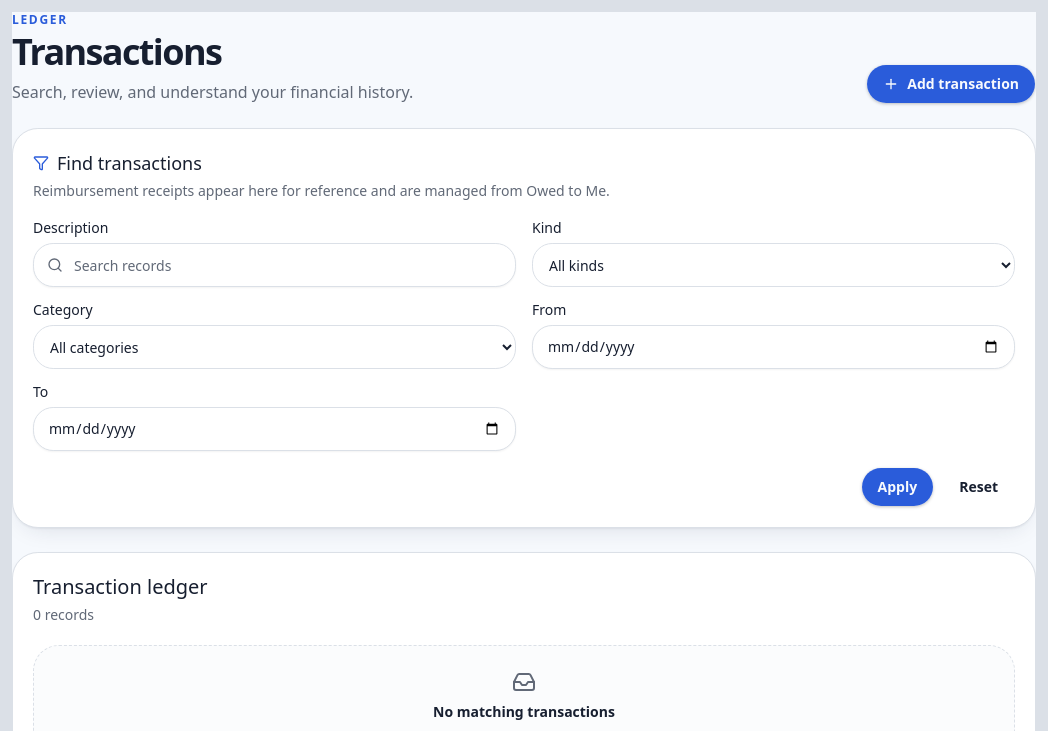
Test: TransactionsPage category catalog integration › creates with the production shape and invalidates transaction and dashboard queries
Click the button "Add transaction": click(951, 84) [866,64,1036,104]
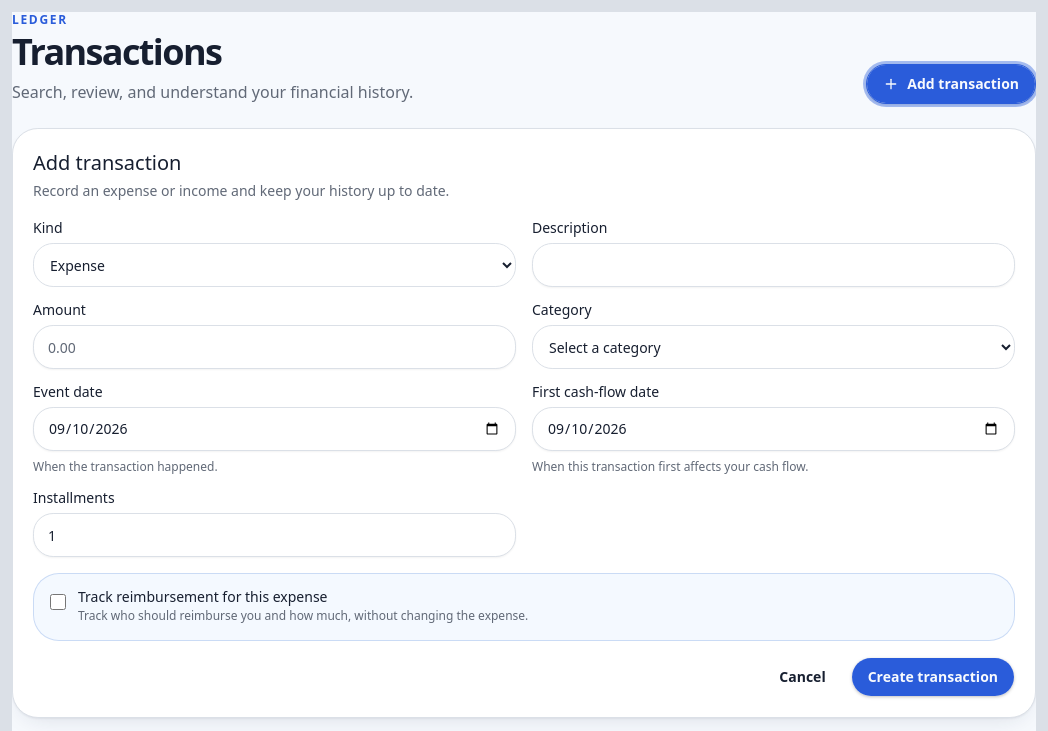
Now the text "Record an expense or income" is shown, box [33,181,449,200]
In the field labelled "Description": (774, 265) [532,243,1015,287], type "Lunch"
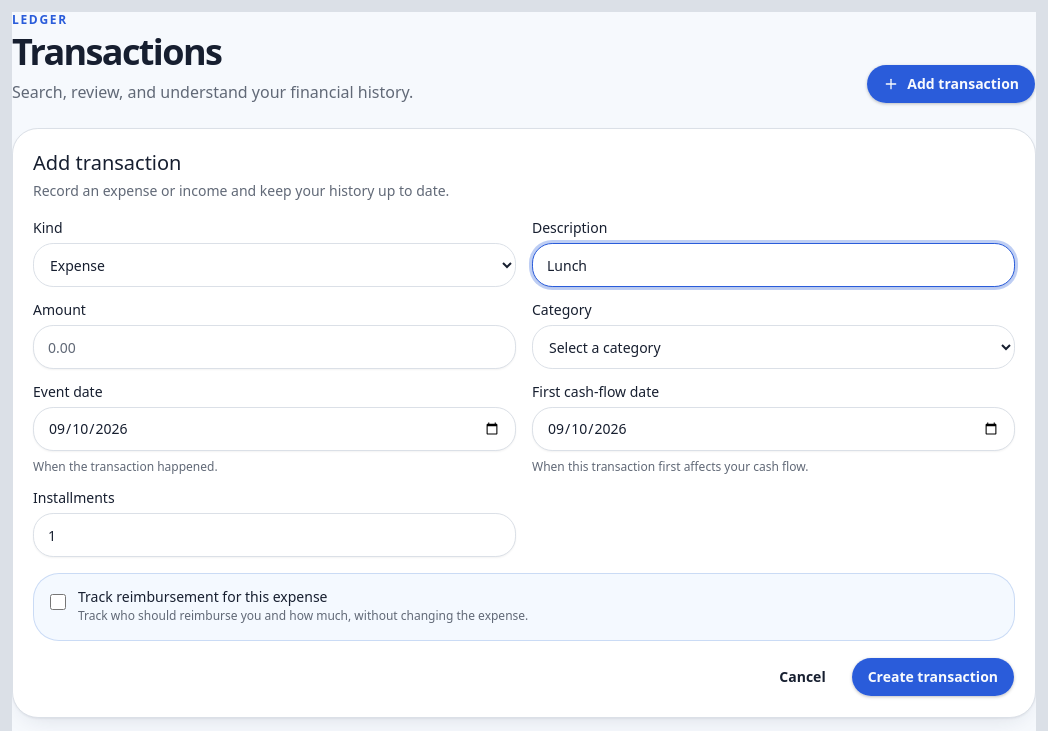
In the field labelled "Amount": (274, 347) [33,325,516,369], type "45.67"
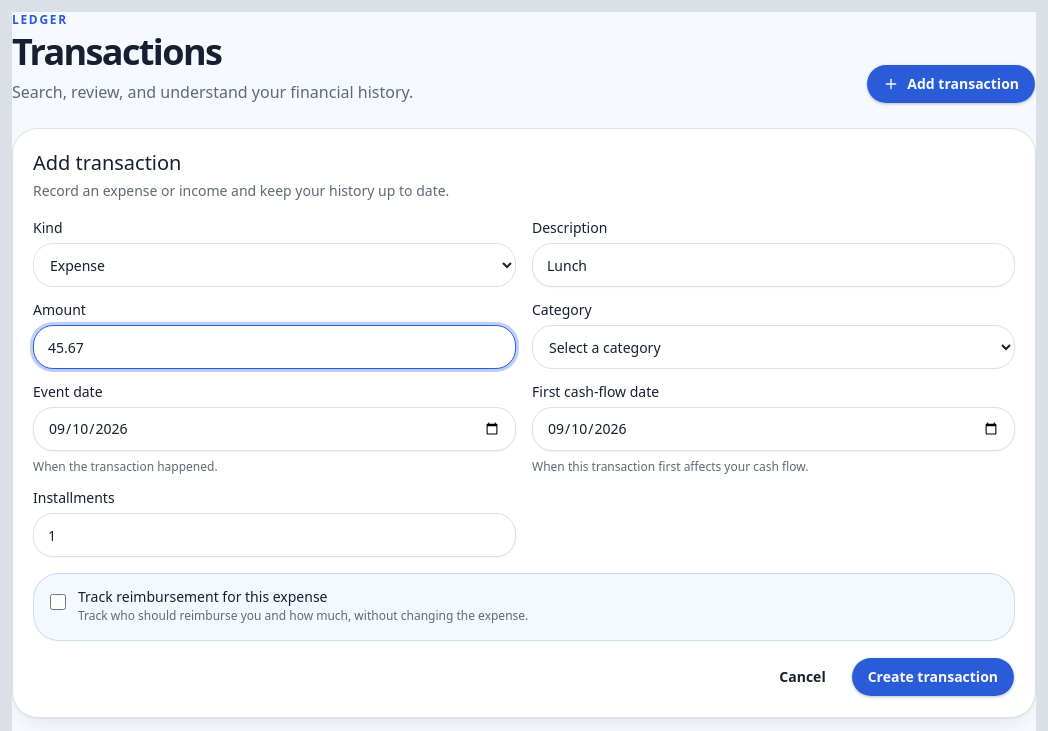
Select "Food and dining" in the dropdown labelled "Category": (774, 347) [532,325,1015,369]
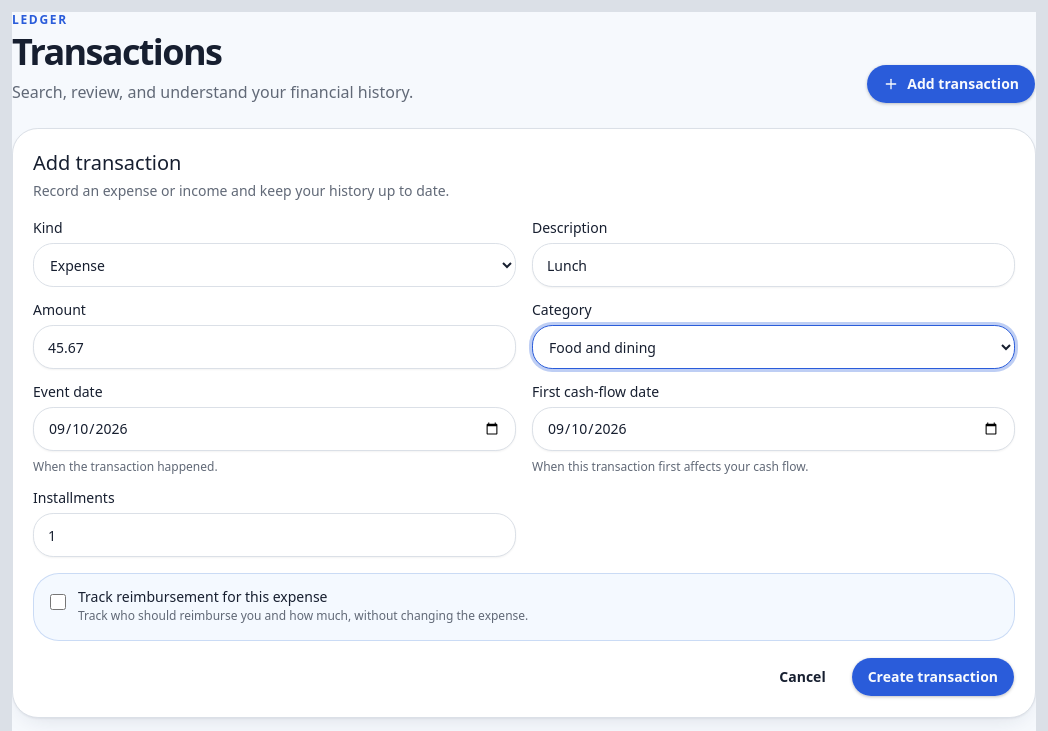
In the date field labelled "Event date": (274, 429) [33,407,516,451], type "2026-08-19"
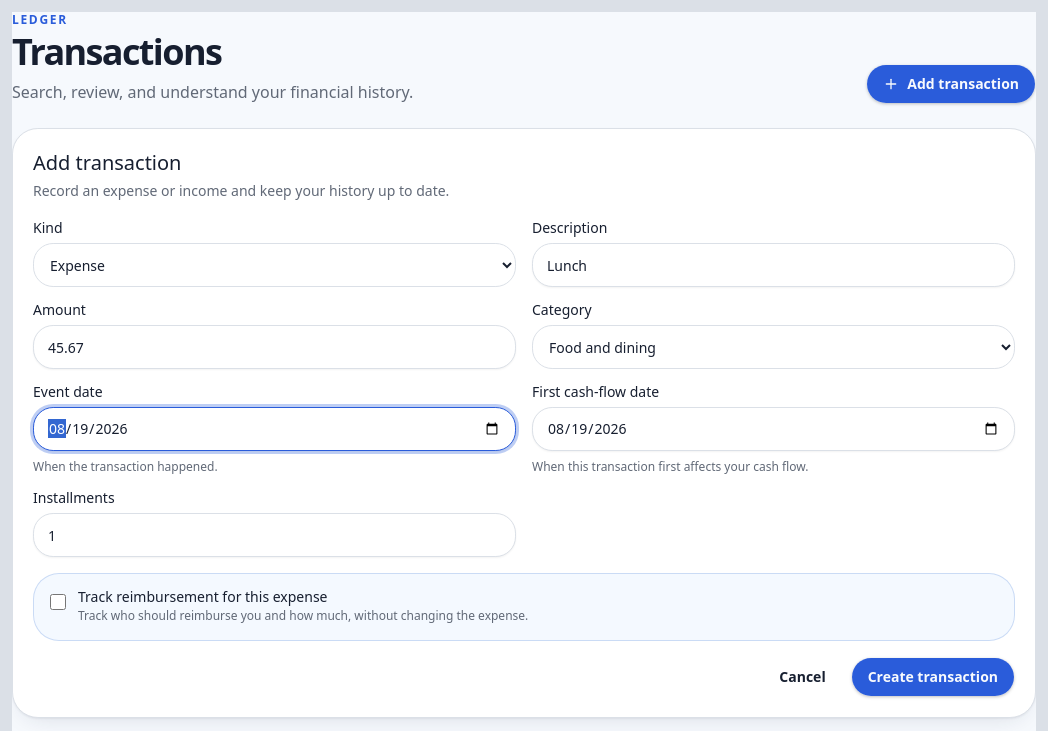
Click the button "Create transaction": click(933, 677) [851,657,1015,697]
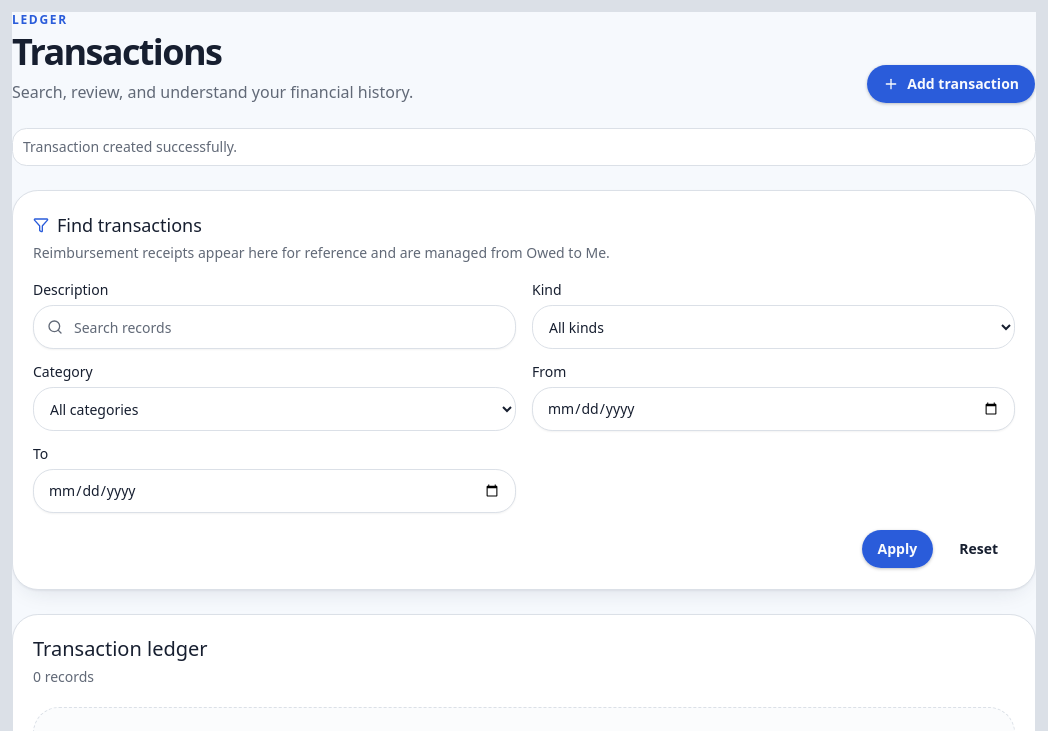
Now the text "Transaction created successfully." is shown, box [23,137,237,156]
Now the text "Record an expense or income" is gone
